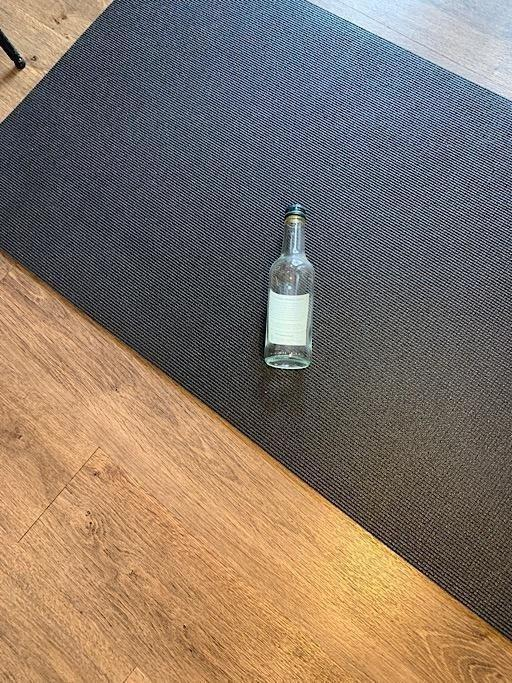bottle-glass: (263, 199, 318, 371)
